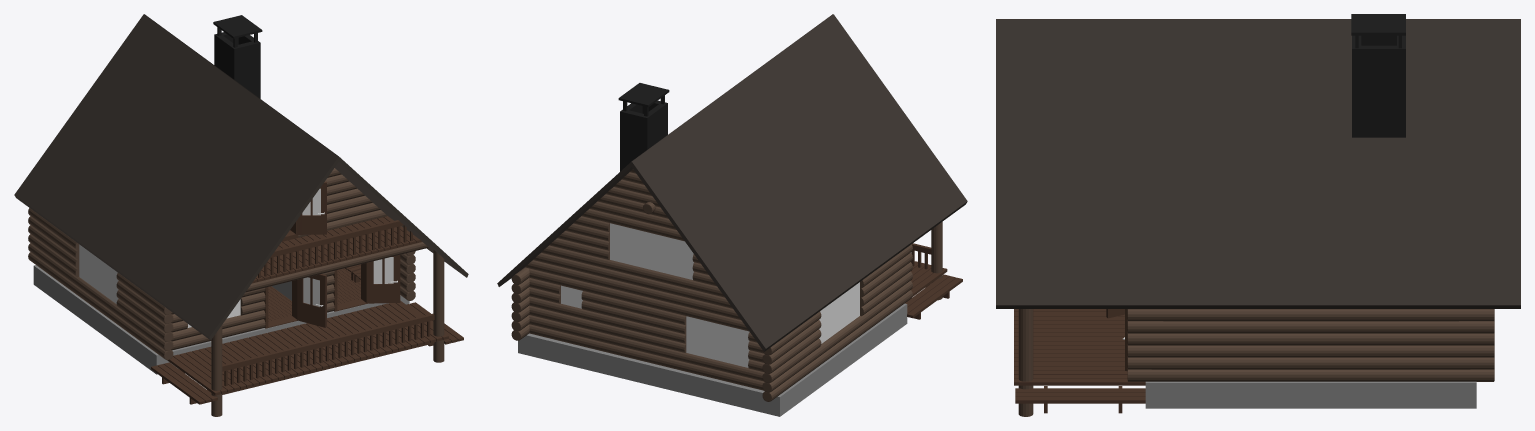
Rendered from Mökki no bake 2.fbx.
3 renders of one model, left to right at view 1: azimuth 30°, elevation 25°; view 2: azimuth 150°, elevation 25°; view 3: azimuth 270°, elevation 25°, orthographic. The views are drawn at different scales.
Parts seen in each view (by area): view 1: Cube.015; view 2: Cube.015; view 3: Cube.015.
Part boxes in pixels (x1=…): Cube.015: x1=14, y1=14, x2=468, y2=416; Cube.015: x1=497, y1=14, x2=967, y2=416; Cube.015: x1=996, y1=14, x2=1520, y2=416.
Bounding box in the file's own units: 1309 × 1210 × 1670.
